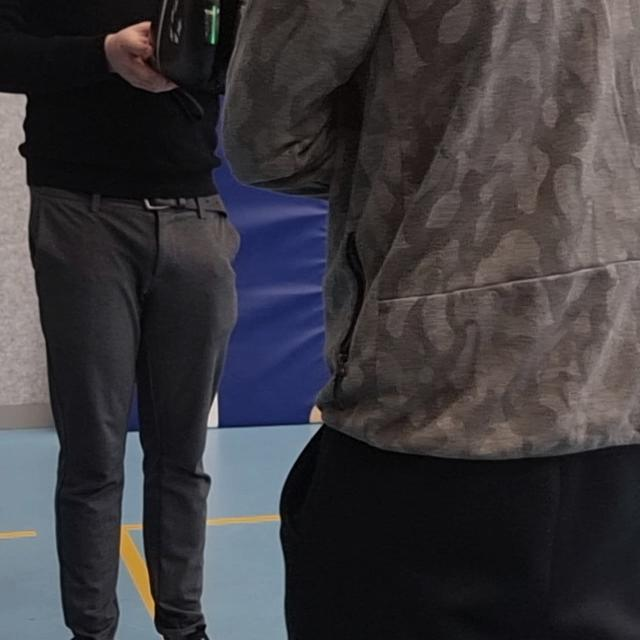paddle: (153, 0, 249, 86)
